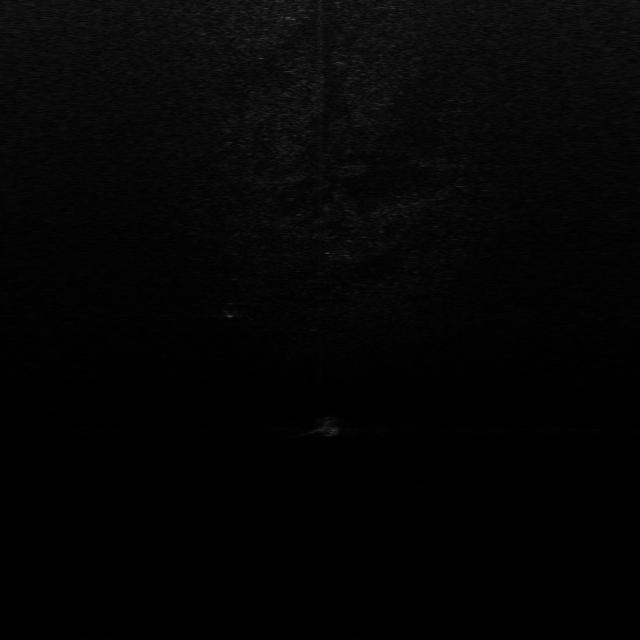ball: (317, 416, 343, 438)
circle cage: (220, 302, 244, 320)
